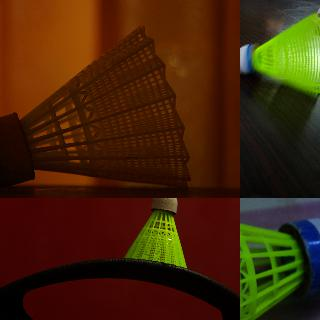shuttlecock: (0, 26, 191, 189), (240, 198, 319, 319), (240, 14, 319, 99), (124, 198, 187, 268)
